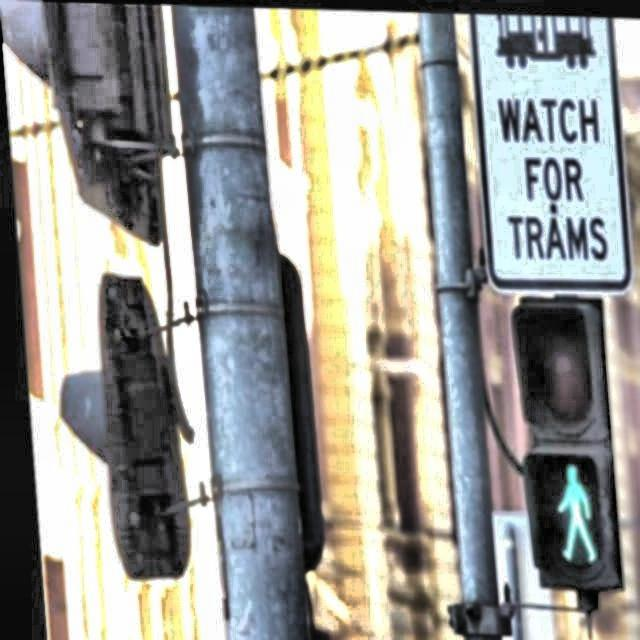semaforo pedestre: (441, 252, 640, 640)
